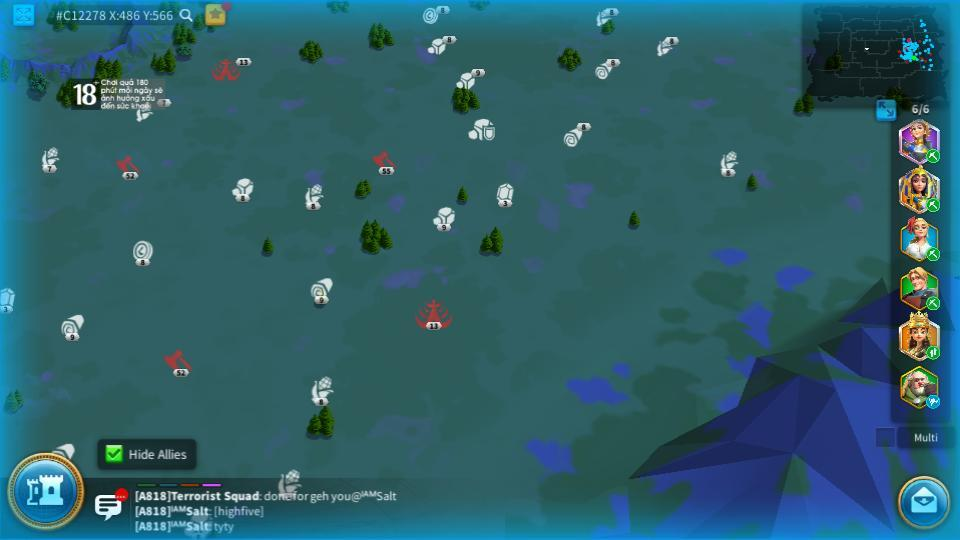gem-z-out: (495, 183, 514, 205)
march_farming: (924, 149, 939, 162)
march_marching: (925, 197, 941, 212), (924, 345, 939, 359), (925, 395, 942, 407), (926, 298, 941, 309)
